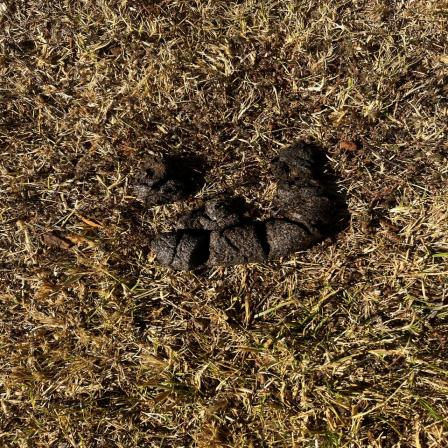dog-poop: (146, 134, 345, 268)
